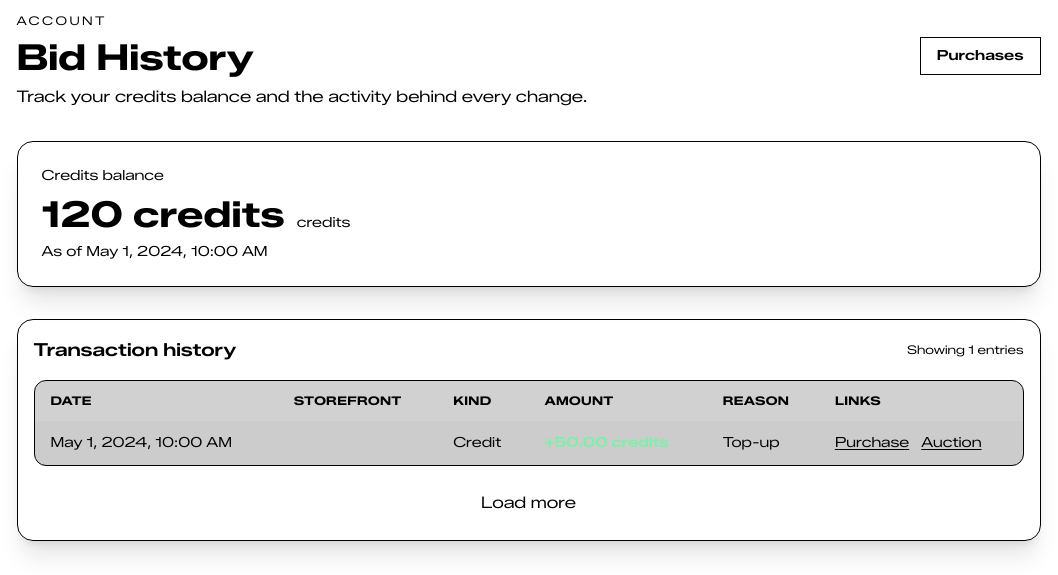
Scenario: BidHistoryPage › renders wallet details and loads more transactions when requested
Expected: the text "Credits balance" is shown, [42,167,164,184]
Expected: the text "120 credits" is shown, [42,194,285,234]
Click the button "Load more" at (528, 503), box [464,482,593,524]
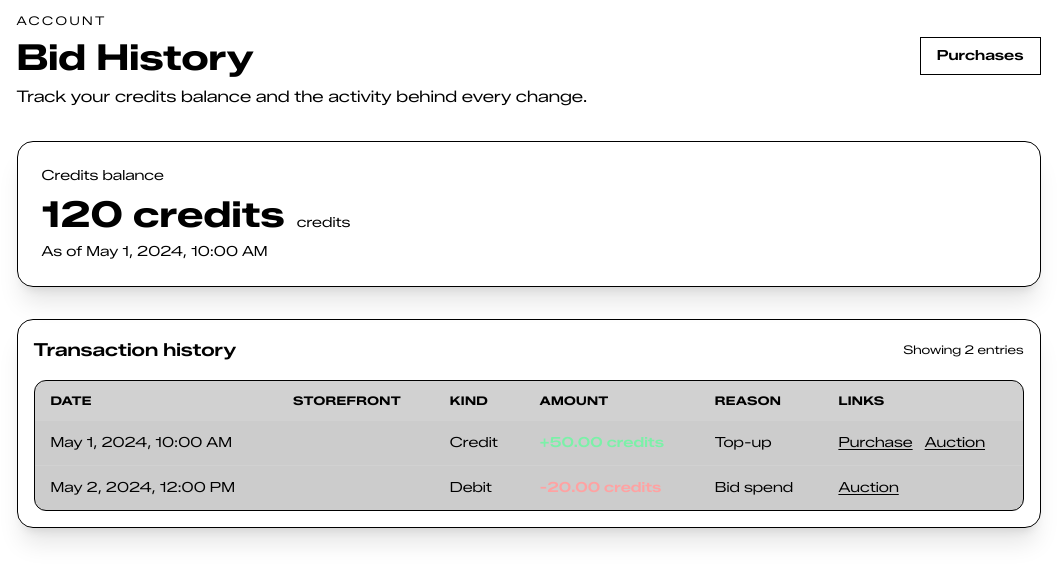
Expected: the text "Bid spend" is shown, [699,466,822,510]
